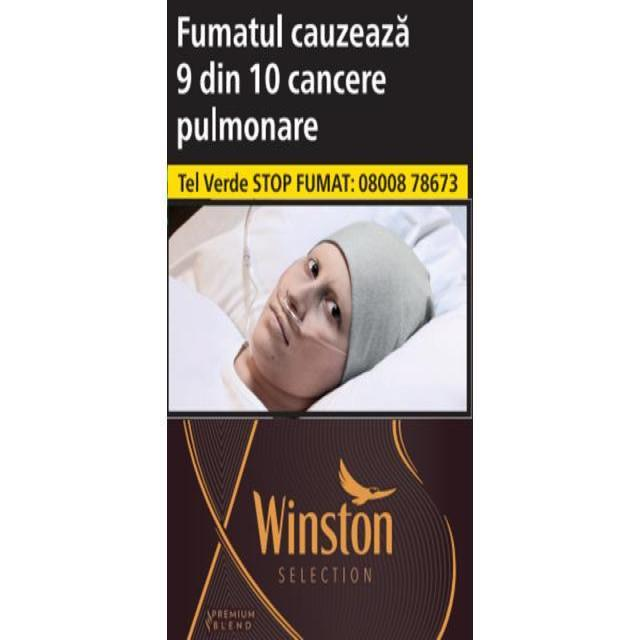winston: (166, 6, 478, 640)
